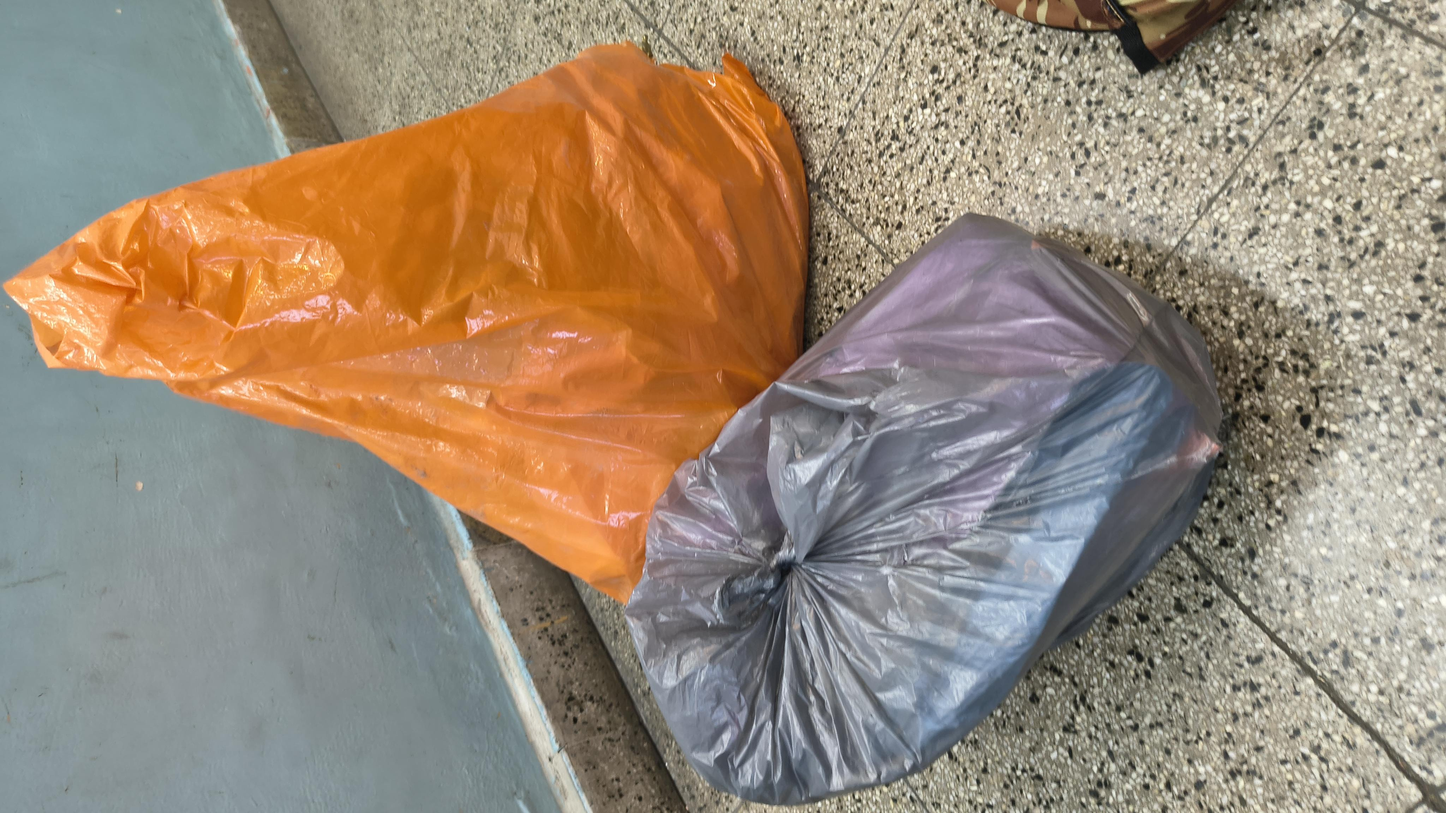Garbage: (333, 12, 1443, 457), (0, 349, 1117, 707)
